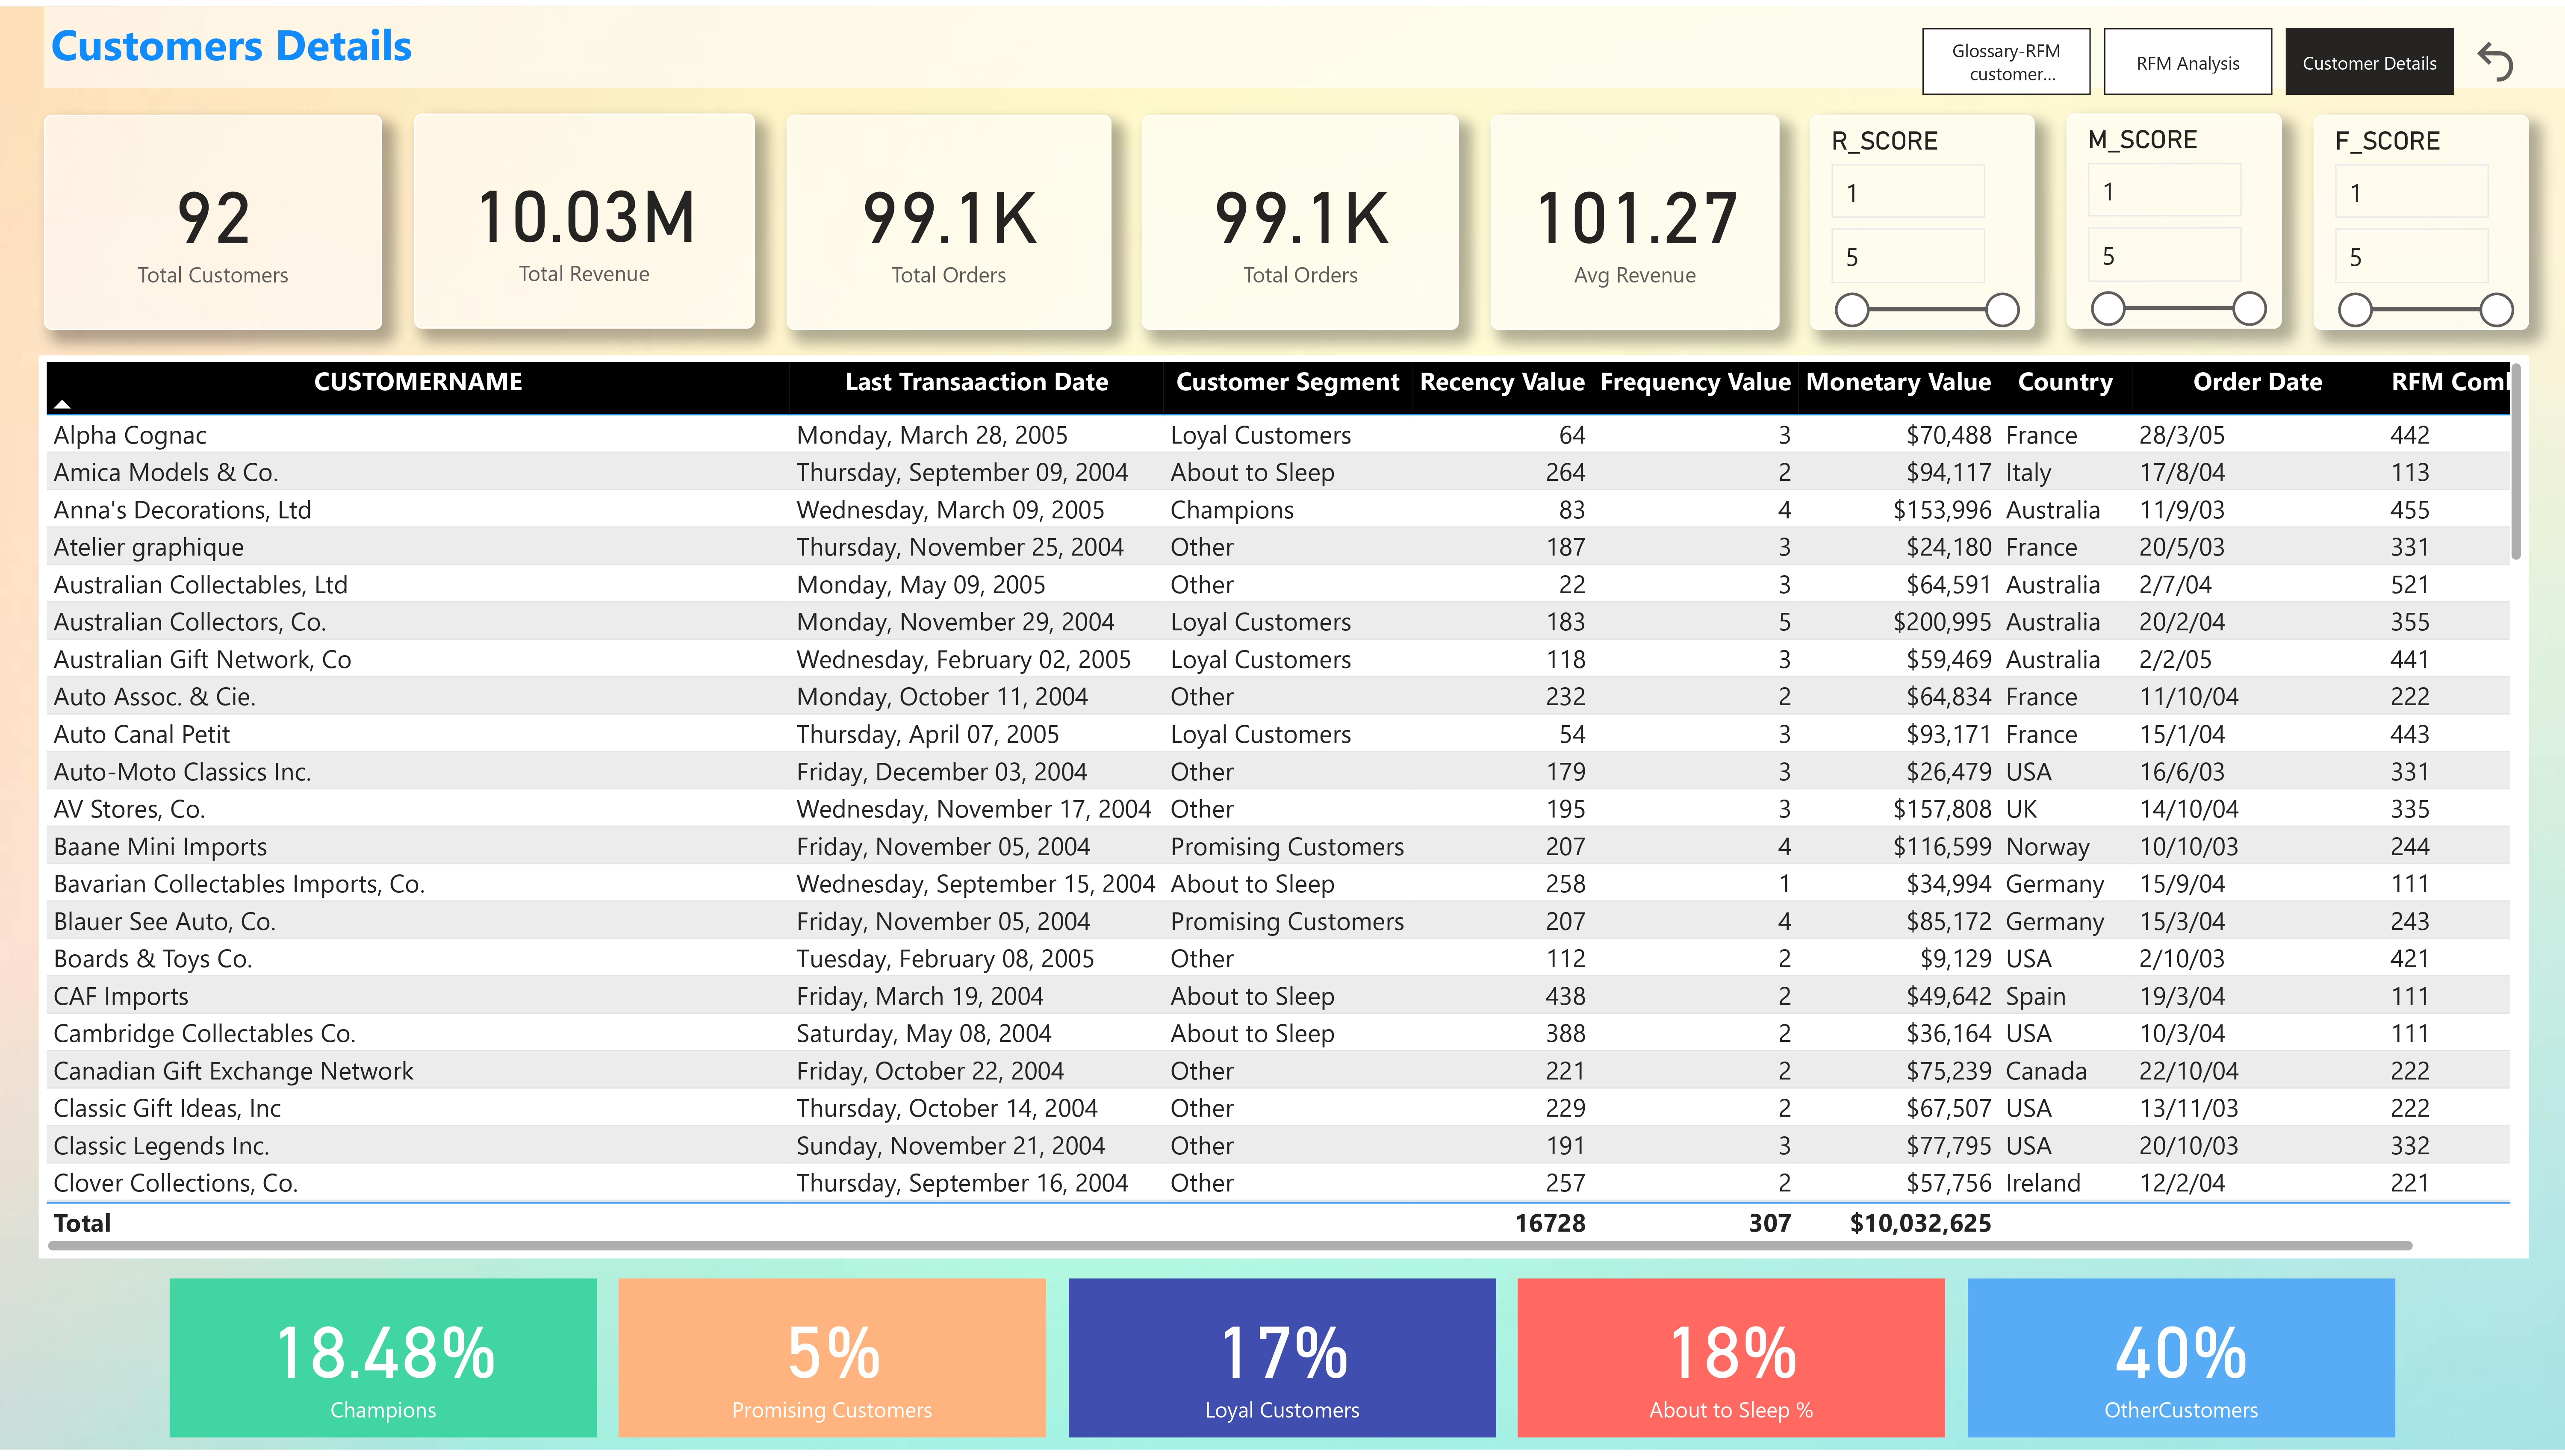

The dashboard page shown, as its layout file describes it:
{"tool":"powerbi","page":{"name":"Customer Details","canvas":[1920,1080],"ordinal":2},"visuals":[{"type":"textbox","box":[33.3,0,1886.7,61.3],"z":0},{"type":"card","fields":{"Values":["_Measures.Loyal Customers"]},"box":[799.6,952,320,118.6],"z":0,"group":"g1"},{"type":"card","fields":{"Values":["_Measures.Promising Customers"]},"box":[463.1,952,320,118.6],"z":1000,"group":"g1"},{"type":"card","fields":{"Values":["_Measures.OtherCustomers"]},"box":[1472.4,952,320,118.6],"z":2000,"group":"g1"},{"type":"card","fields":{"Values":["_Measures.Total Customers"]},"box":[33.3,81.3,253.3,161.3],"z":2000},{"type":"card","fields":{"Values":["_Measures.About to Sleep %"]},"box":[1136,952,320,118.6],"z":3000,"group":"g1"},{"type":"card","fields":{"Values":["_Measures.Total Orders"]},"box":[588.6,81.3,242.7,161.3],"z":3000},{"type":"card","fields":{"Values":["_Measures.Champions"]},"box":[126.7,952,320,118.6],"z":4000,"group":"g1"},{"type":"card","fields":{"Values":["_Measures.Total Revenue"]},"box":[310.3,80,254.7,161.3],"z":4000},{"type":"slicer","fields":{"Values":["rfm_segmentation_data.R_SCORE"]},"box":[1355.4,81.3,168,161.3],"z":5000},{"type":"slicer","fields":{"Values":["rfm_segmentation_data.M_SCORE"]},"box":[1547,80,161.3,161.3],"z":6000},{"type":"slicer","fields":{"Values":["rfm_segmentation_data.F_SCORE"]},"box":[1732,81.3,161.3,161.3],"z":7000},{"type":"group","id":"g1","title":"Group 1","box":[126.7,952,1665.3,118.7],"z":8000},{"type":"card","fields":{"Values":["_Measures.Total Orders"]},"box":[854.9,81.3,237.3,161.3],"z":9000},{"type":"card","fields":{"Values":["_Measures.Avg Revenue"]},"box":[1115.8,81.3,216,161.3],"z":10000},{"type":"tableEx","fields":{"Values":["rfm_segmentation_data.CUSTOMERNAME","Min(rfm_segmentation_data.CUSTOMER_LAST_TRANSACTION_DATE)","Min(rfm_segmentation_data.CUSTOMER_SEGMENT)","Sum(rfm_segmentation_data.RECENCY_VALUE)","Sum(rfm_segmentation_data.FREQUENCY_VALUE)","Sum(rfm_segmentation_data.MONETARY_VALUE)","Min(sample_sales_data.COUNTRY)","Min(sample_sales_data.ORDERDATE)","Min(rfm_segmentation_data.RFM_COMBINATION)"]},"box":[29.3,261.3,1864,676],"z":11000},{"type":"actionButton","box":[1848,21.3,45.3,40],"z":15000},{"type":"pageNavigator","box":[1438.7,16,400,50.7],"z":16000}]}

Visuals, with their boxes in screenshot pixels (x1, y1, x2, y2), scaled from the page's 1920x1080 canvas onto the 2565x1456 screenshot:
textbox: locate(44, 0, 2565, 82)
card - _Measures.Loyal Customers: locate(1068, 1283, 1496, 1443)
card - _Measures.Promising Customers: locate(619, 1283, 1046, 1443)
card - _Measures.OtherCustomers: locate(1967, 1283, 2394, 1443)
card - _Measures.Total Customers: locate(44, 109, 383, 327)
card - _Measures.About to Sleep %: locate(1518, 1283, 1945, 1443)
card - _Measures.Total Orders: locate(786, 109, 1111, 327)
card - _Measures.Champions: locate(169, 1283, 597, 1443)
card - _Measures.Total Revenue: locate(415, 108, 755, 325)
slicer - rfm_segmentation_data.R_SCORE: locate(1811, 109, 2035, 327)
slicer - rfm_segmentation_data.M_SCORE: locate(2067, 108, 2282, 325)
slicer - rfm_segmentation_data.F_SCORE: locate(2314, 109, 2530, 327)
"Group 1" group: locate(169, 1283, 2394, 1444)
card - _Measures.Total Orders: locate(1142, 109, 1459, 327)
card - _Measures.Avg Revenue: locate(1491, 109, 1779, 327)
tableEx - rfm_segmentation_data.CUSTOMERNAME x Min(rfm_segmentation_data.CUSTOMER_LAST_TRANSACTION_DATE): locate(39, 352, 2530, 1264)
actionButton: locate(2469, 29, 2530, 82)
pageNavigator: locate(1922, 21, 2456, 90)
